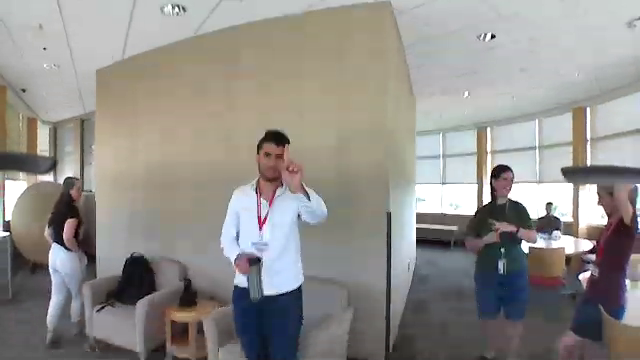up: (273, 139, 305, 193)
